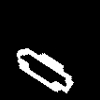chain: (17, 49, 73, 92)
